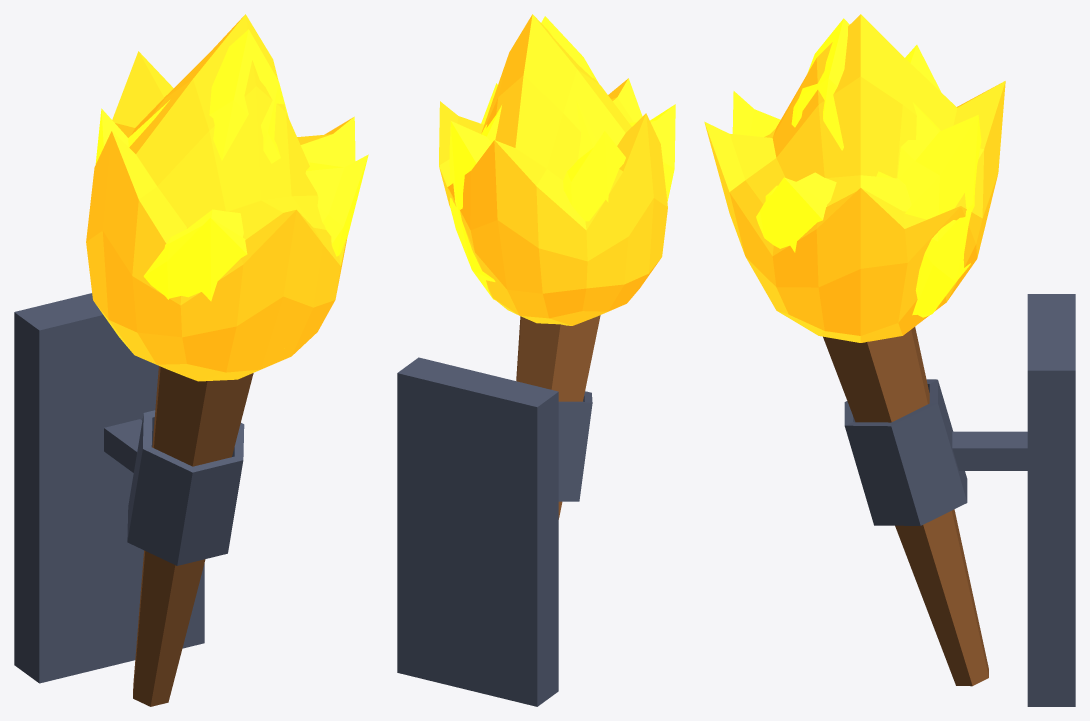
Rendered from Torch.fbx.
3 views of the same model, side by side, from view 1: azimuth 30°, elevation 25°; view 2: azimuth 150°, elevation 25°; view 3: azimuth 270°, elevation 25° (orthographic). The views are drawn at different scales.
Parts seen in each view (by area): view 1: torchHandle.002, Fire.002; view 2: torchHandle.002, Fire.002; view 3: Fire.002, torchHandle.002.
Part boxes in pixels (x1=…): torchHandle.002: x1=14, y1=293, x2=253, y2=706; Fire.002: x1=86, y1=14, x2=368, y2=381; torchHandle.002: x1=397, y1=315, x2=600, y2=706; Fire.002: x1=439, y1=14, x2=675, y2=325; Fire.002: x1=704, y1=14, x2=1005, y2=342; torchHandle.002: x1=823, y1=294, x2=1075, y2=706.
Size of the model in its own units: 55.16 by 73.92 by 150.
